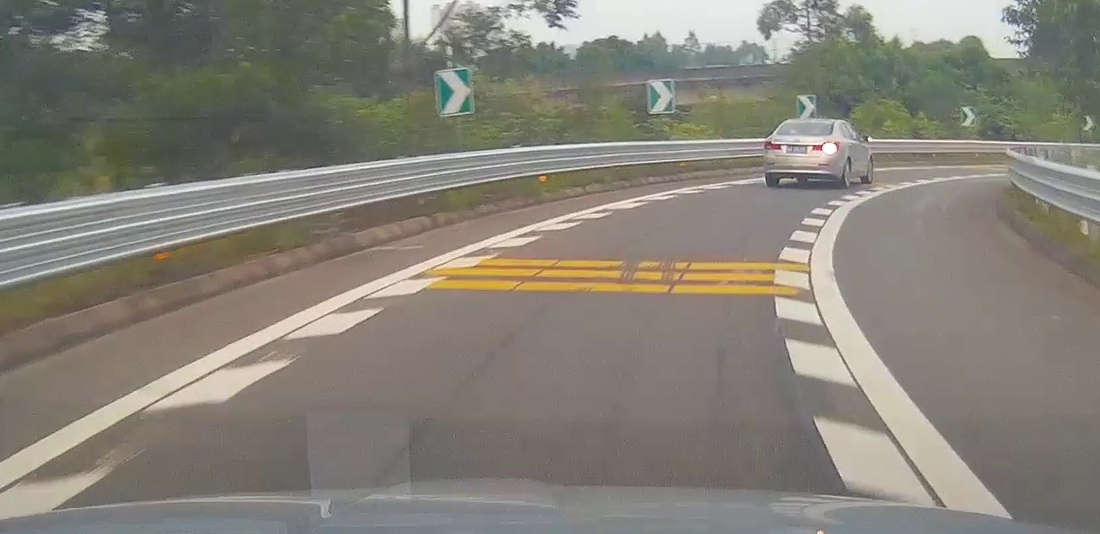L_light: (764, 141, 782, 150)
R_light: (813, 142, 837, 154)
T_light: (796, 132, 807, 135)
day-right: (763, 118, 840, 187)
